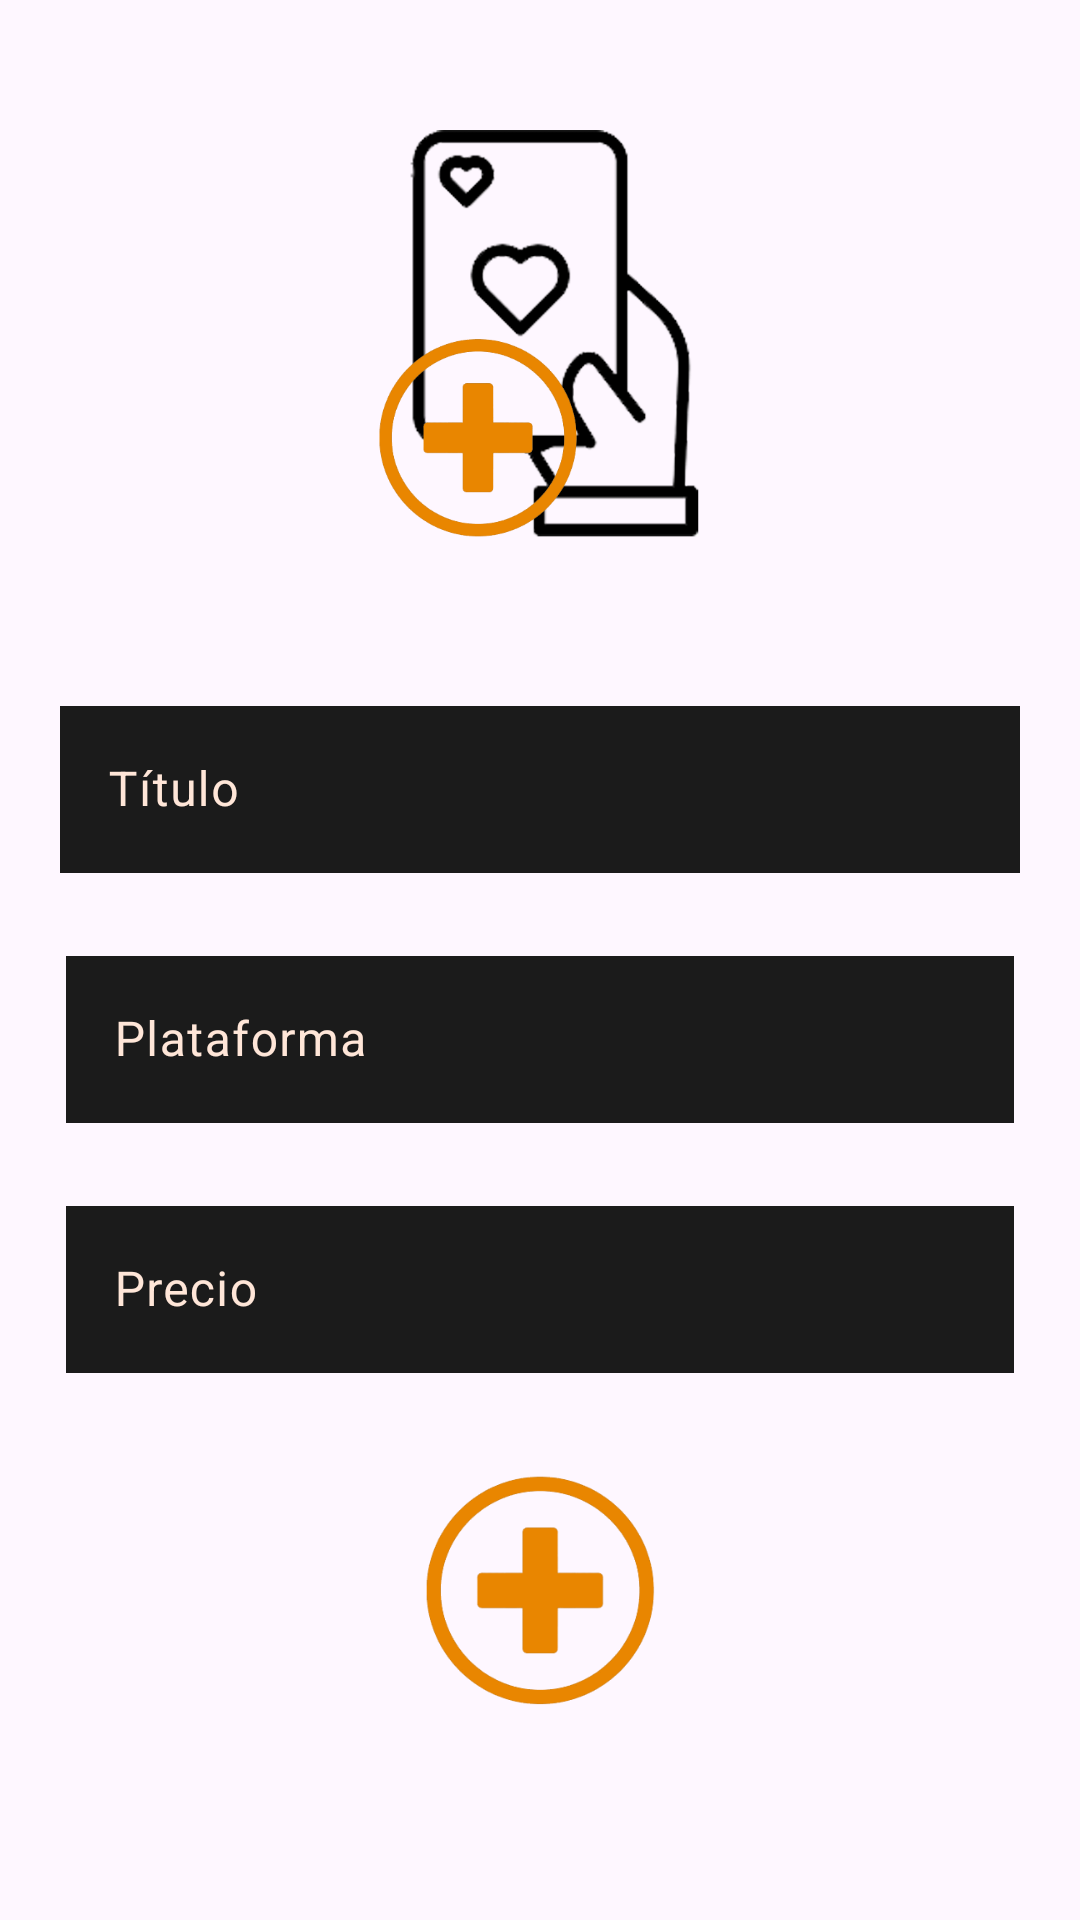

Icons on this 1080 × 1920 Android screen, each with its box as Rect(x1, y1, x2, y2):
add: Rect(426, 1476, 654, 1704)
